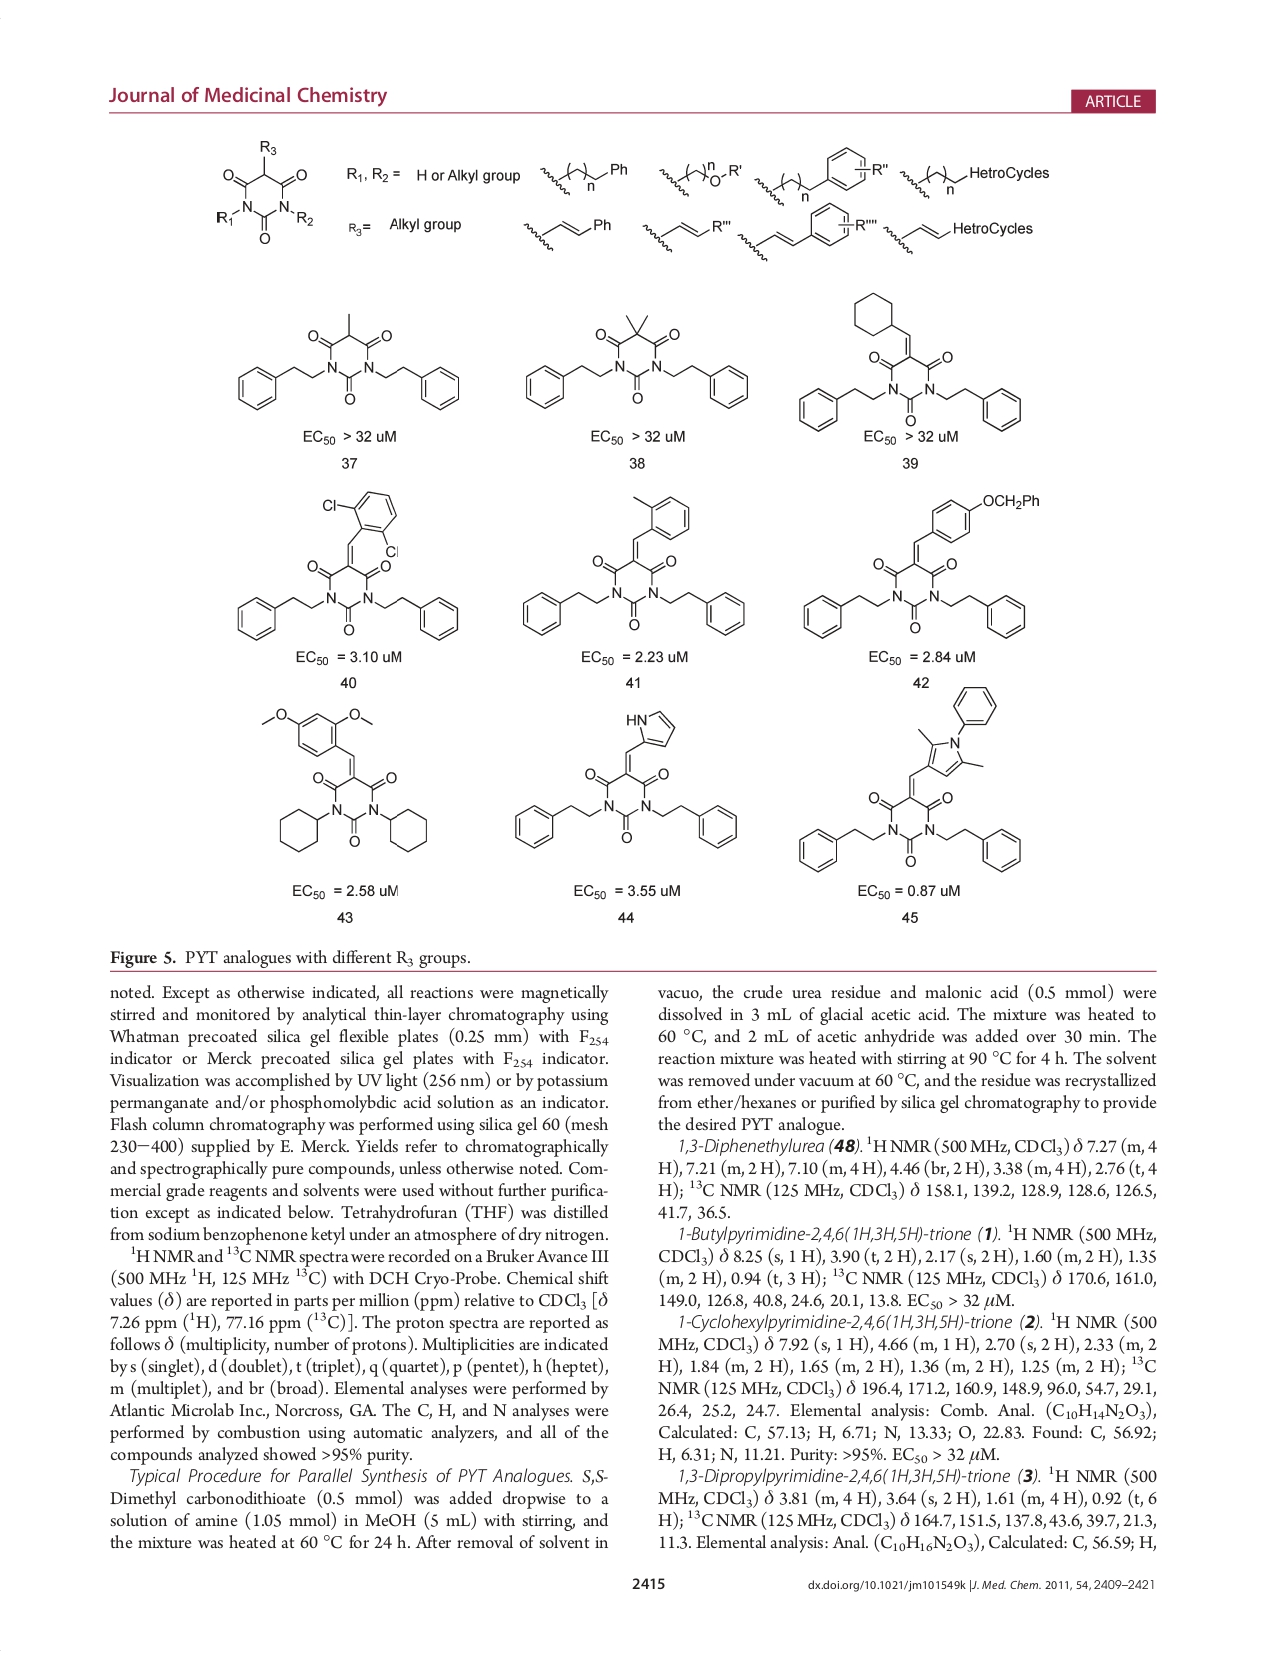exist_molecular: (797, 684, 1023, 874), (801, 491, 1040, 641), (233, 489, 463, 644), (516, 493, 749, 640), (512, 707, 741, 852), (797, 290, 1024, 434), (258, 704, 430, 855), (234, 311, 461, 414), (521, 313, 751, 412), (214, 134, 319, 245), (735, 199, 879, 265), (751, 144, 890, 207), (898, 157, 1052, 201), (882, 217, 1035, 255), (521, 211, 614, 255), (535, 158, 630, 199), (656, 157, 743, 201), (641, 214, 733, 254)
